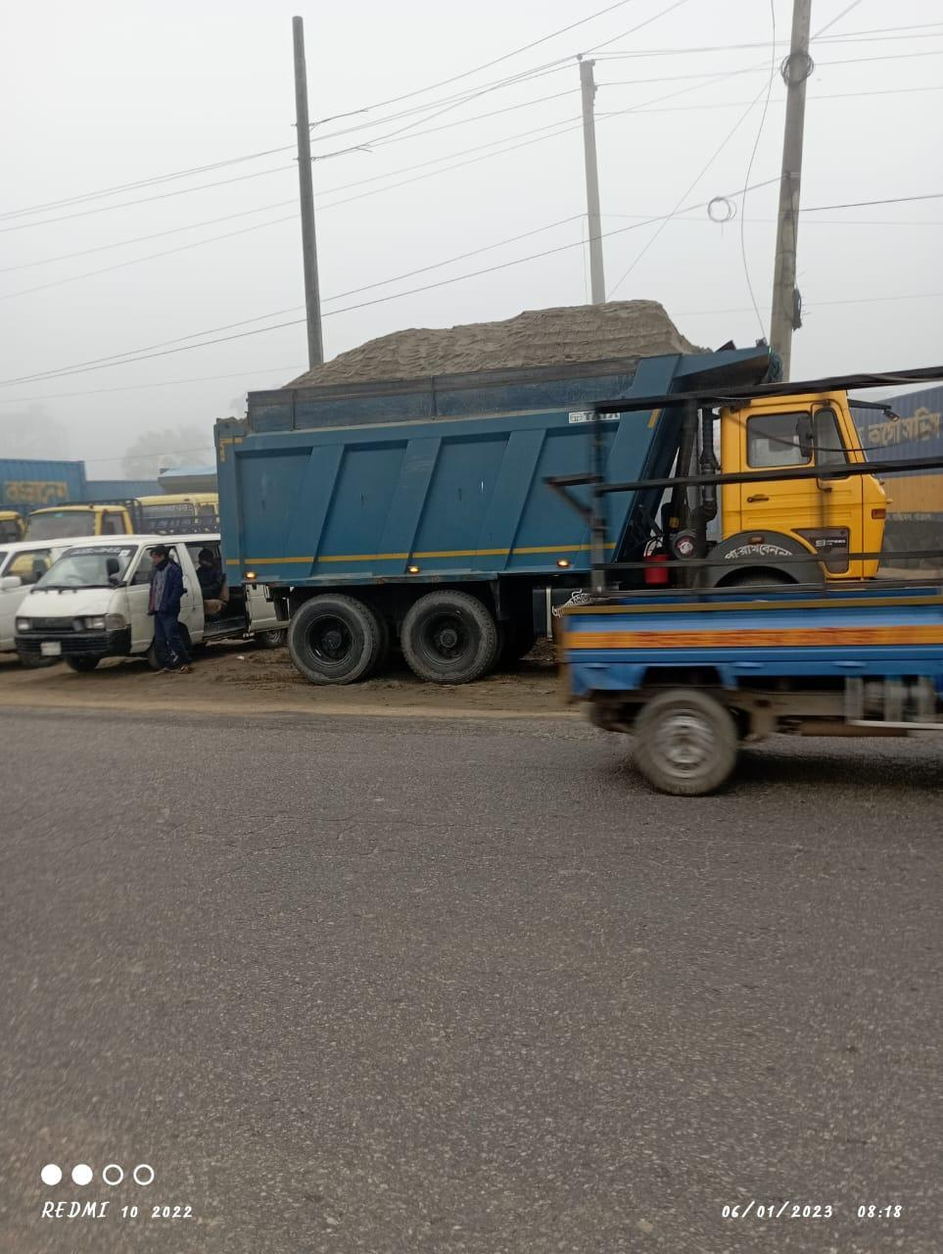Truck: (198, 294, 886, 601), (544, 541, 943, 779), (20, 529, 227, 673)
